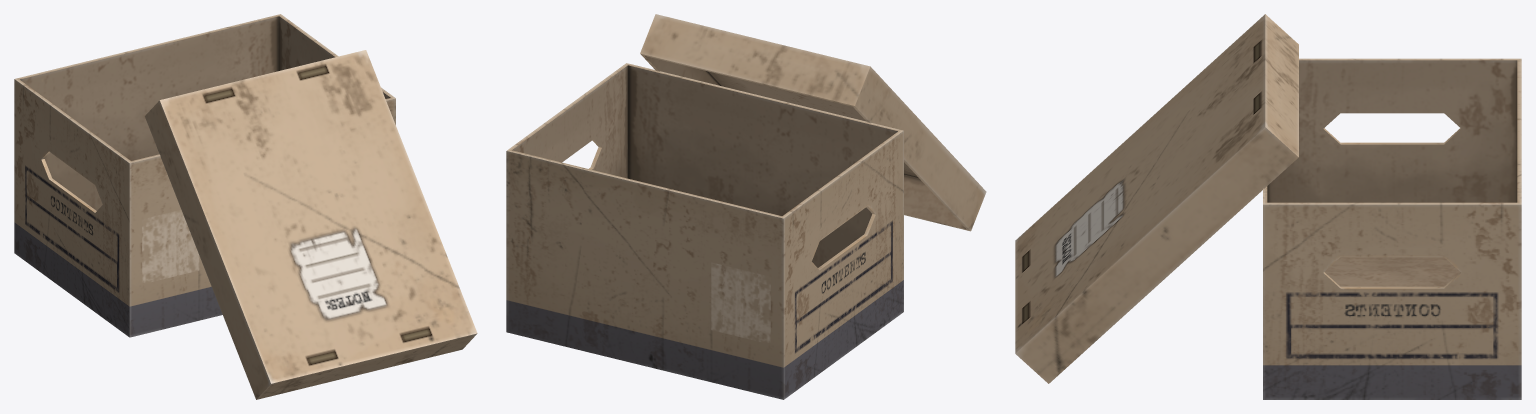
Rendered from fileBox01_C.fbx.
The picture shows the model from 3 angles, left to right: view 1: azimuth 30°, elevation 25°; view 2: azimuth 150°, elevation 25°; view 3: azimuth 270°, elevation 25°; orthographic projection. The views are drawn at different scales.
Visible parts, largest first — view 1: fileBox01_C; view 2: fileBox01_C; view 3: fileBox01_C.
Boxes of the visible parts, left/top/right/bottom form: fileBox01_C: left=14, top=14, right=477, bottom=399; fileBox01_C: left=506, top=14, right=986, bottom=399; fileBox01_C: left=1015, top=14, right=1521, bottom=399.
Bounding box in the file's own units: 40 × 32.88 × 58.72.
